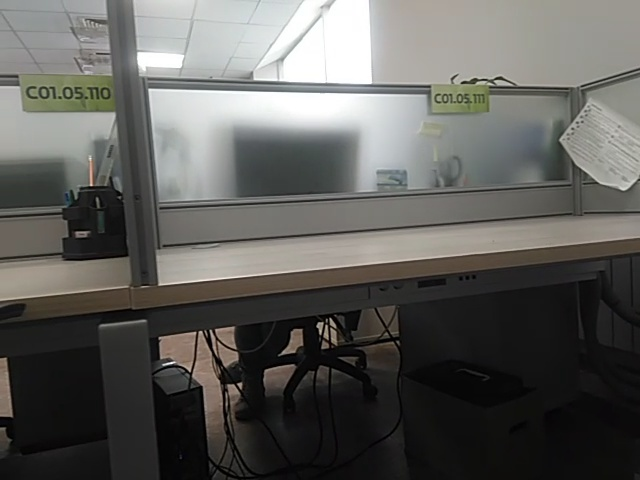table: (18, 73, 117, 111), (429, 83, 490, 112)
